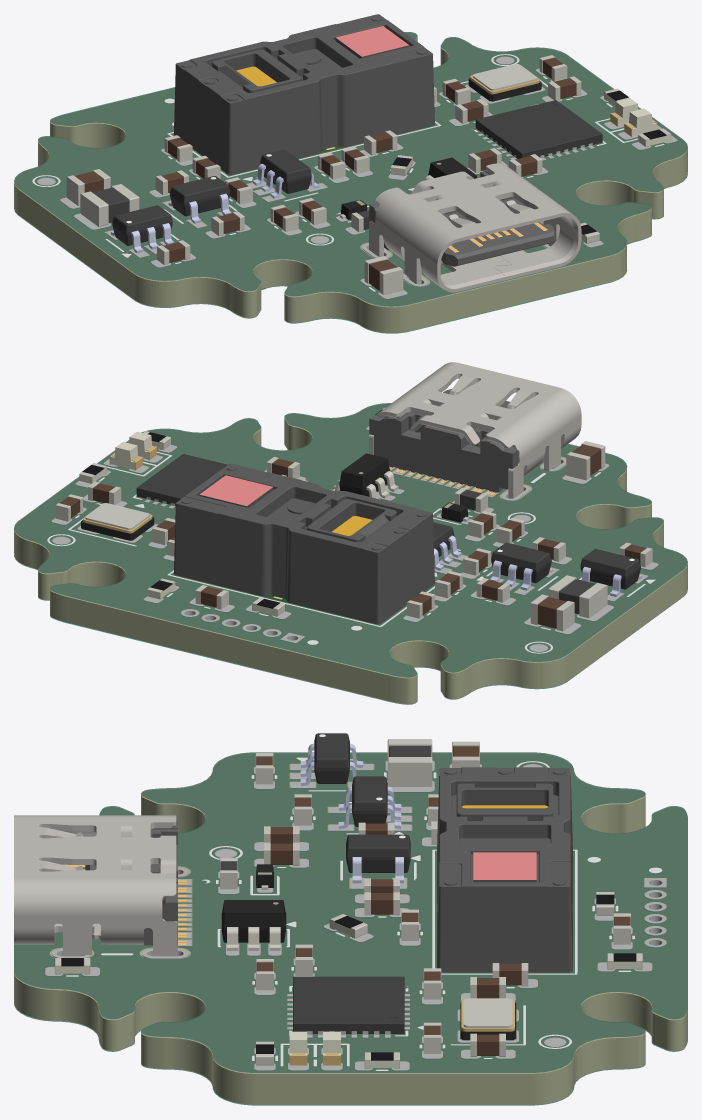
The model's file is board.glb.
3 views of the same model, one above another, from view 1: azimuth 30°, elevation 25°; view 2: azimuth 150°, elevation 25°; view 3: azimuth 270°, elevation 25° (orthographic). The views are drawn at different scales.
Visible parts, largest first — view 1: =>[0:1:1:48], =>[0:1:1:46], =>[0:1:1:29], NAUO2, =>[0:1:1:3] (×17), =>[0:1:1:9] (×3), =>[0:1:1:7], =>[0:1:1:43], NAUO1, =>[0:1:1:11] (×2), =>[0:1:1:15], =>[0:1:1:17] (+4 smaller); view 2: =>[0:1:1:48], =>[0:1:1:46], =>[0:1:1:29], NAUO2, NAUO1, =>[0:1:1:3] (×10), =>[0:1:1:43], =>[0:1:1:9] (×3), =>[0:1:1:11] (×2), =>[0:1:1:7], =>[0:1:1:25], =>[0:1:1:15] (+5 smaller); view 3: =>[0:1:1:48], =>[0:1:1:46], =>[0:1:1:29], NAUO2, =>[0:1:1:43], =>[0:1:1:3] (×14), =>[0:1:1:9] (×3), =>[0:1:1:7], =>[0:1:1:44], =>[0:1:1:25], =>[0:1:1:13] (×4), =>[0:1:1:17] (+6 smaller).
Part boxes in pixels (box(x1,y1,x2,y2)): =>[0:1:1:48]: box(14, 33, 687, 332); =>[0:1:1:46]: box(14, 32, 687, 306); =>[0:1:1:29]: box(173, 14, 434, 174); NAUO2: box(369, 163, 581, 292); =>[0:1:1:3] (×17): box(155, 55, 581, 264); =>[0:1:1:9] (×3): box(111, 149, 319, 253); =>[0:1:1:7]: box(475, 100, 602, 158); =>[0:1:1:43]: box(37, 56, 677, 298); NAUO1: box(369, 169, 554, 266); =>[0:1:1:11] (×2): box(66, 169, 403, 295); =>[0:1:1:15]: box(468, 64, 541, 101); =>[0:1:1:17]: box(80, 184, 139, 226); =>[0:1:1:48]: box(14, 404, 687, 703); =>[0:1:1:46]: box(14, 403, 687, 677); =>[0:1:1:29]: box(173, 463, 434, 624); NAUO2: box(369, 362, 581, 498); NAUO1: box(369, 389, 519, 495); =>[0:1:1:3] (×10): box(55, 456, 524, 618); =>[0:1:1:43]: box(51, 426, 658, 651); =>[0:1:1:9] (×3): box(433, 522, 642, 596); =>[0:1:1:11] (×2): box(530, 441, 605, 631); =>[0:1:1:7]: box(136, 454, 227, 506); =>[0:1:1:25]: box(332, 453, 398, 499); =>[0:1:1:15]: box(81, 503, 154, 540); =>[0:1:1:48]: box(14, 754, 687, 1104); =>[0:1:1:46]: box(14, 752, 687, 1072); =>[0:1:1:29]: box(437, 767, 572, 972); NAUO2: box(14, 815, 177, 956); =>[0:1:1:43]: box(45, 760, 666, 1070); =>[0:1:1:3] (×14): box(255, 753, 630, 1056); =>[0:1:1:9] (×3): box(300, 733, 410, 883); =>[0:1:1:7]: box(293, 976, 404, 1034); =>[0:1:1:44]: box(66, 757, 662, 1070); =>[0:1:1:25]: box(221, 900, 286, 950); =>[0:1:1:13] (×4): box(54, 914, 642, 1068); =>[0:1:1:17]: box(387, 739, 432, 786).
Bounding box in the file's own units: 0.034 × 0.00736 × 0.0302.
